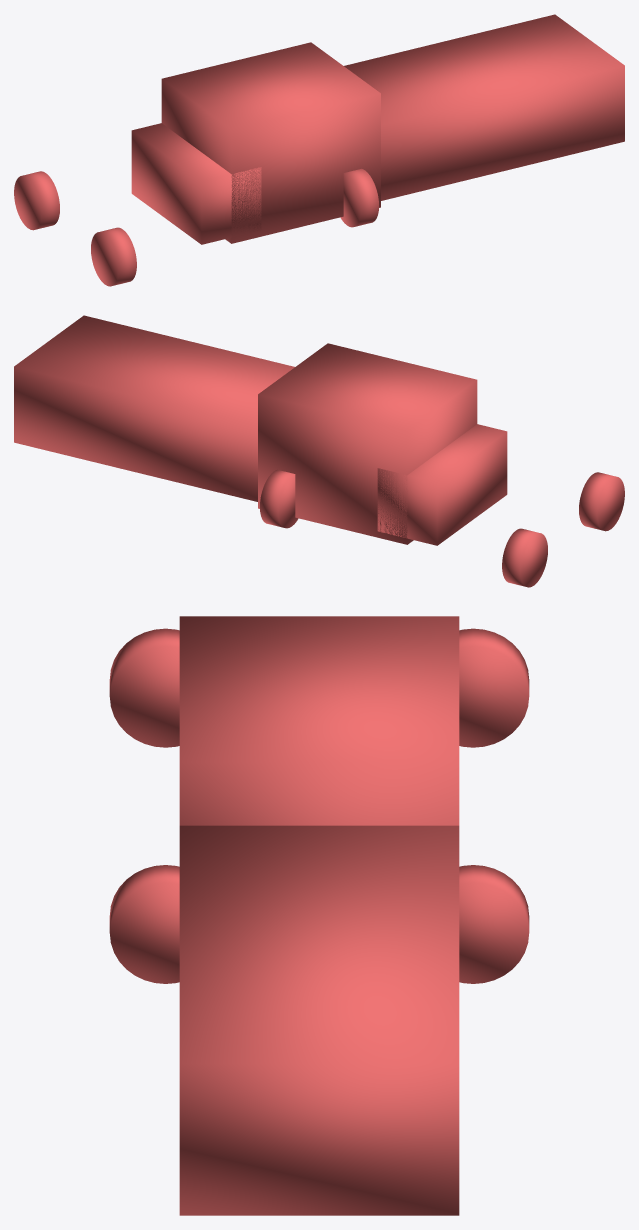
File: Chevrolet_Silverado_2500HD_2022_Red_Hot.glb
The picture shows the model from 3 angles, top to bottom: view 1: azimuth 30°, elevation 25°; view 2: azimuth 150°, elevation 25°; view 3: azimuth 270°, elevation 25°; orthographic projection. The views are drawn at different scales.
Parts seen in each view (by area): view 1: Chevrolet_Silverado_2500HD; view 2: Chevrolet_Silverado_2500HD; view 3: Chevrolet_Silverado_2500HD.
Part boxes in pixels (box(x1,y1,x2,y2)): Chevrolet_Silverado_2500HD: box(14, 14, 624, 286); Chevrolet_Silverado_2500HD: box(14, 315, 624, 587); Chevrolet_Silverado_2500HD: box(109, 616, 529, 1215).
Size of the model in its own units: 8.65 by 1.9 by 3.
